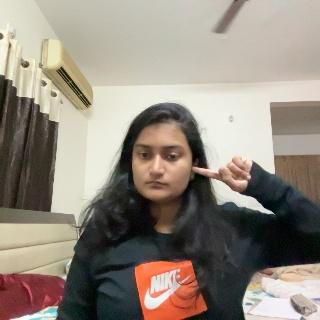Deaf: (194, 155, 265, 198)
Face: (126, 110, 194, 203)
